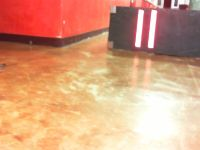switch: (134, 9, 145, 48), (147, 10, 157, 48)
